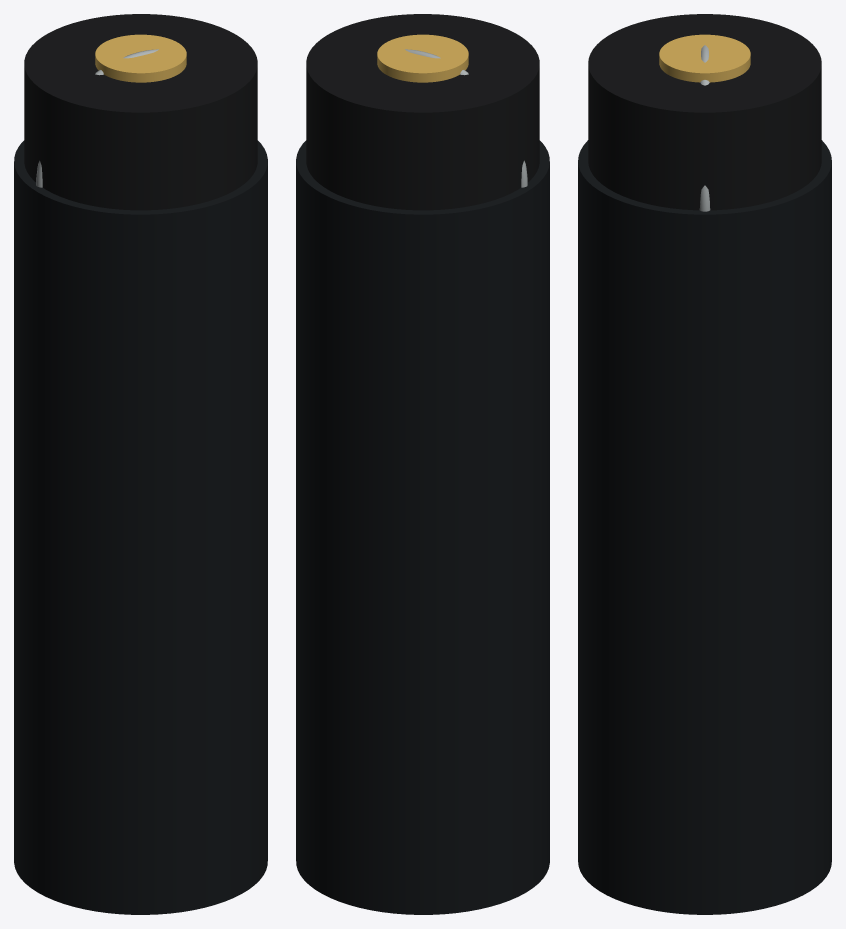
The picture shows the model from 3 angles, left to right: view 1: azimuth 30°, elevation 25°; view 2: azimuth 150°, elevation 25°; view 3: azimuth 270°, elevation 25°; orthographic projection.
Visible parts, largest first — view 1: insulated-body, lid, temperature-display; view 2: insulated-body, lid, temperature-display; view 3: insulated-body, lid, temperature-display.
Boxes of the visible parts, <box> form: insulated-body: <box>14,140,267,914</box>; lid: <box>24,14,257,210</box>; temperature-display: <box>95,34,186,82</box>; insulated-body: <box>296,140,549,914</box>; lid: <box>306,14,539,210</box>; temperature-display: <box>377,34,468,82</box>; insulated-body: <box>578,140,831,914</box>; lid: <box>588,14,821,210</box>; temperature-display: <box>659,34,750,82</box>.
Bounding box in the file's own units: 0.065 × 0.2285 × 0.065.
